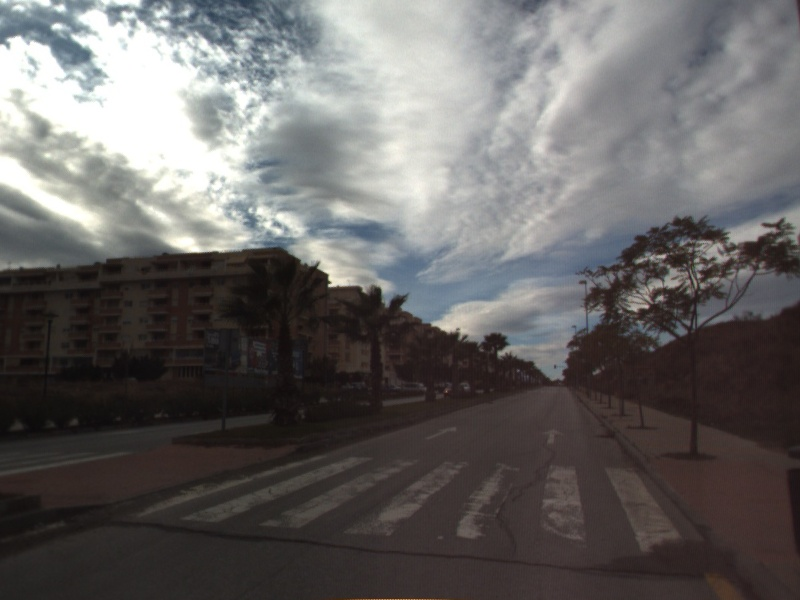STRAIGHT: (423, 424, 458, 441), (540, 427, 566, 446)
